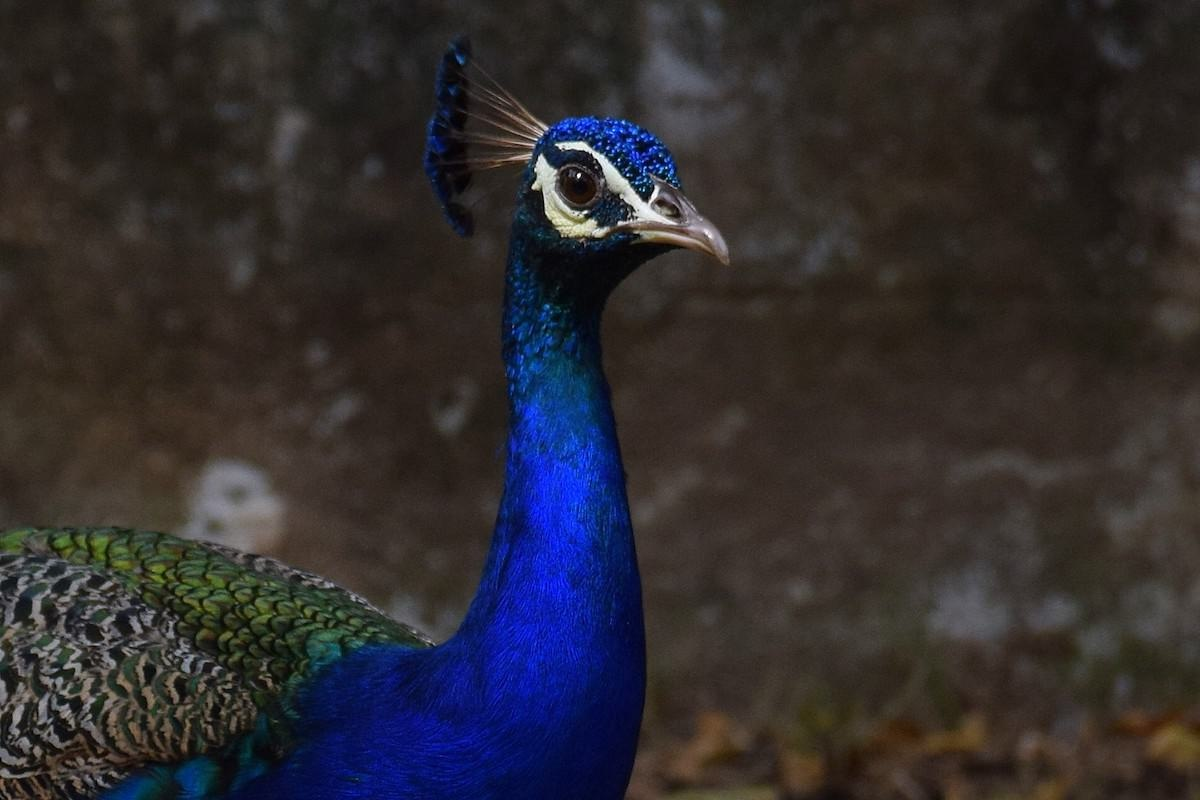peacock: (1, 78, 746, 800)
